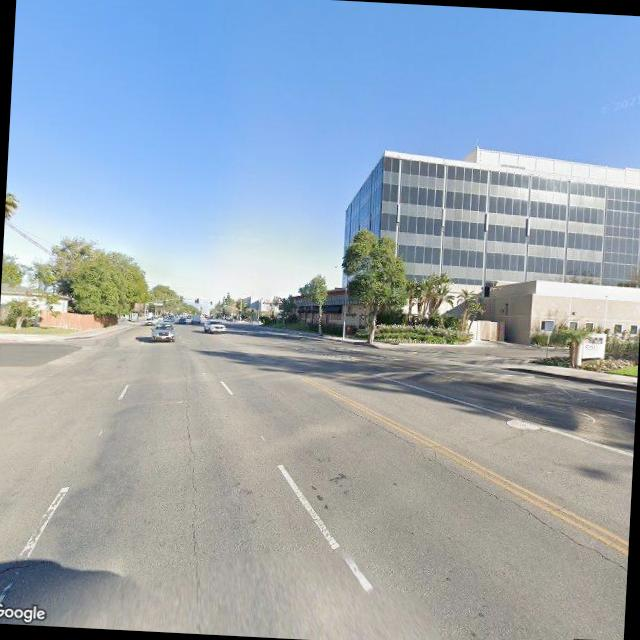pothole: (308, 392, 628, 566), (170, 403, 210, 561)
